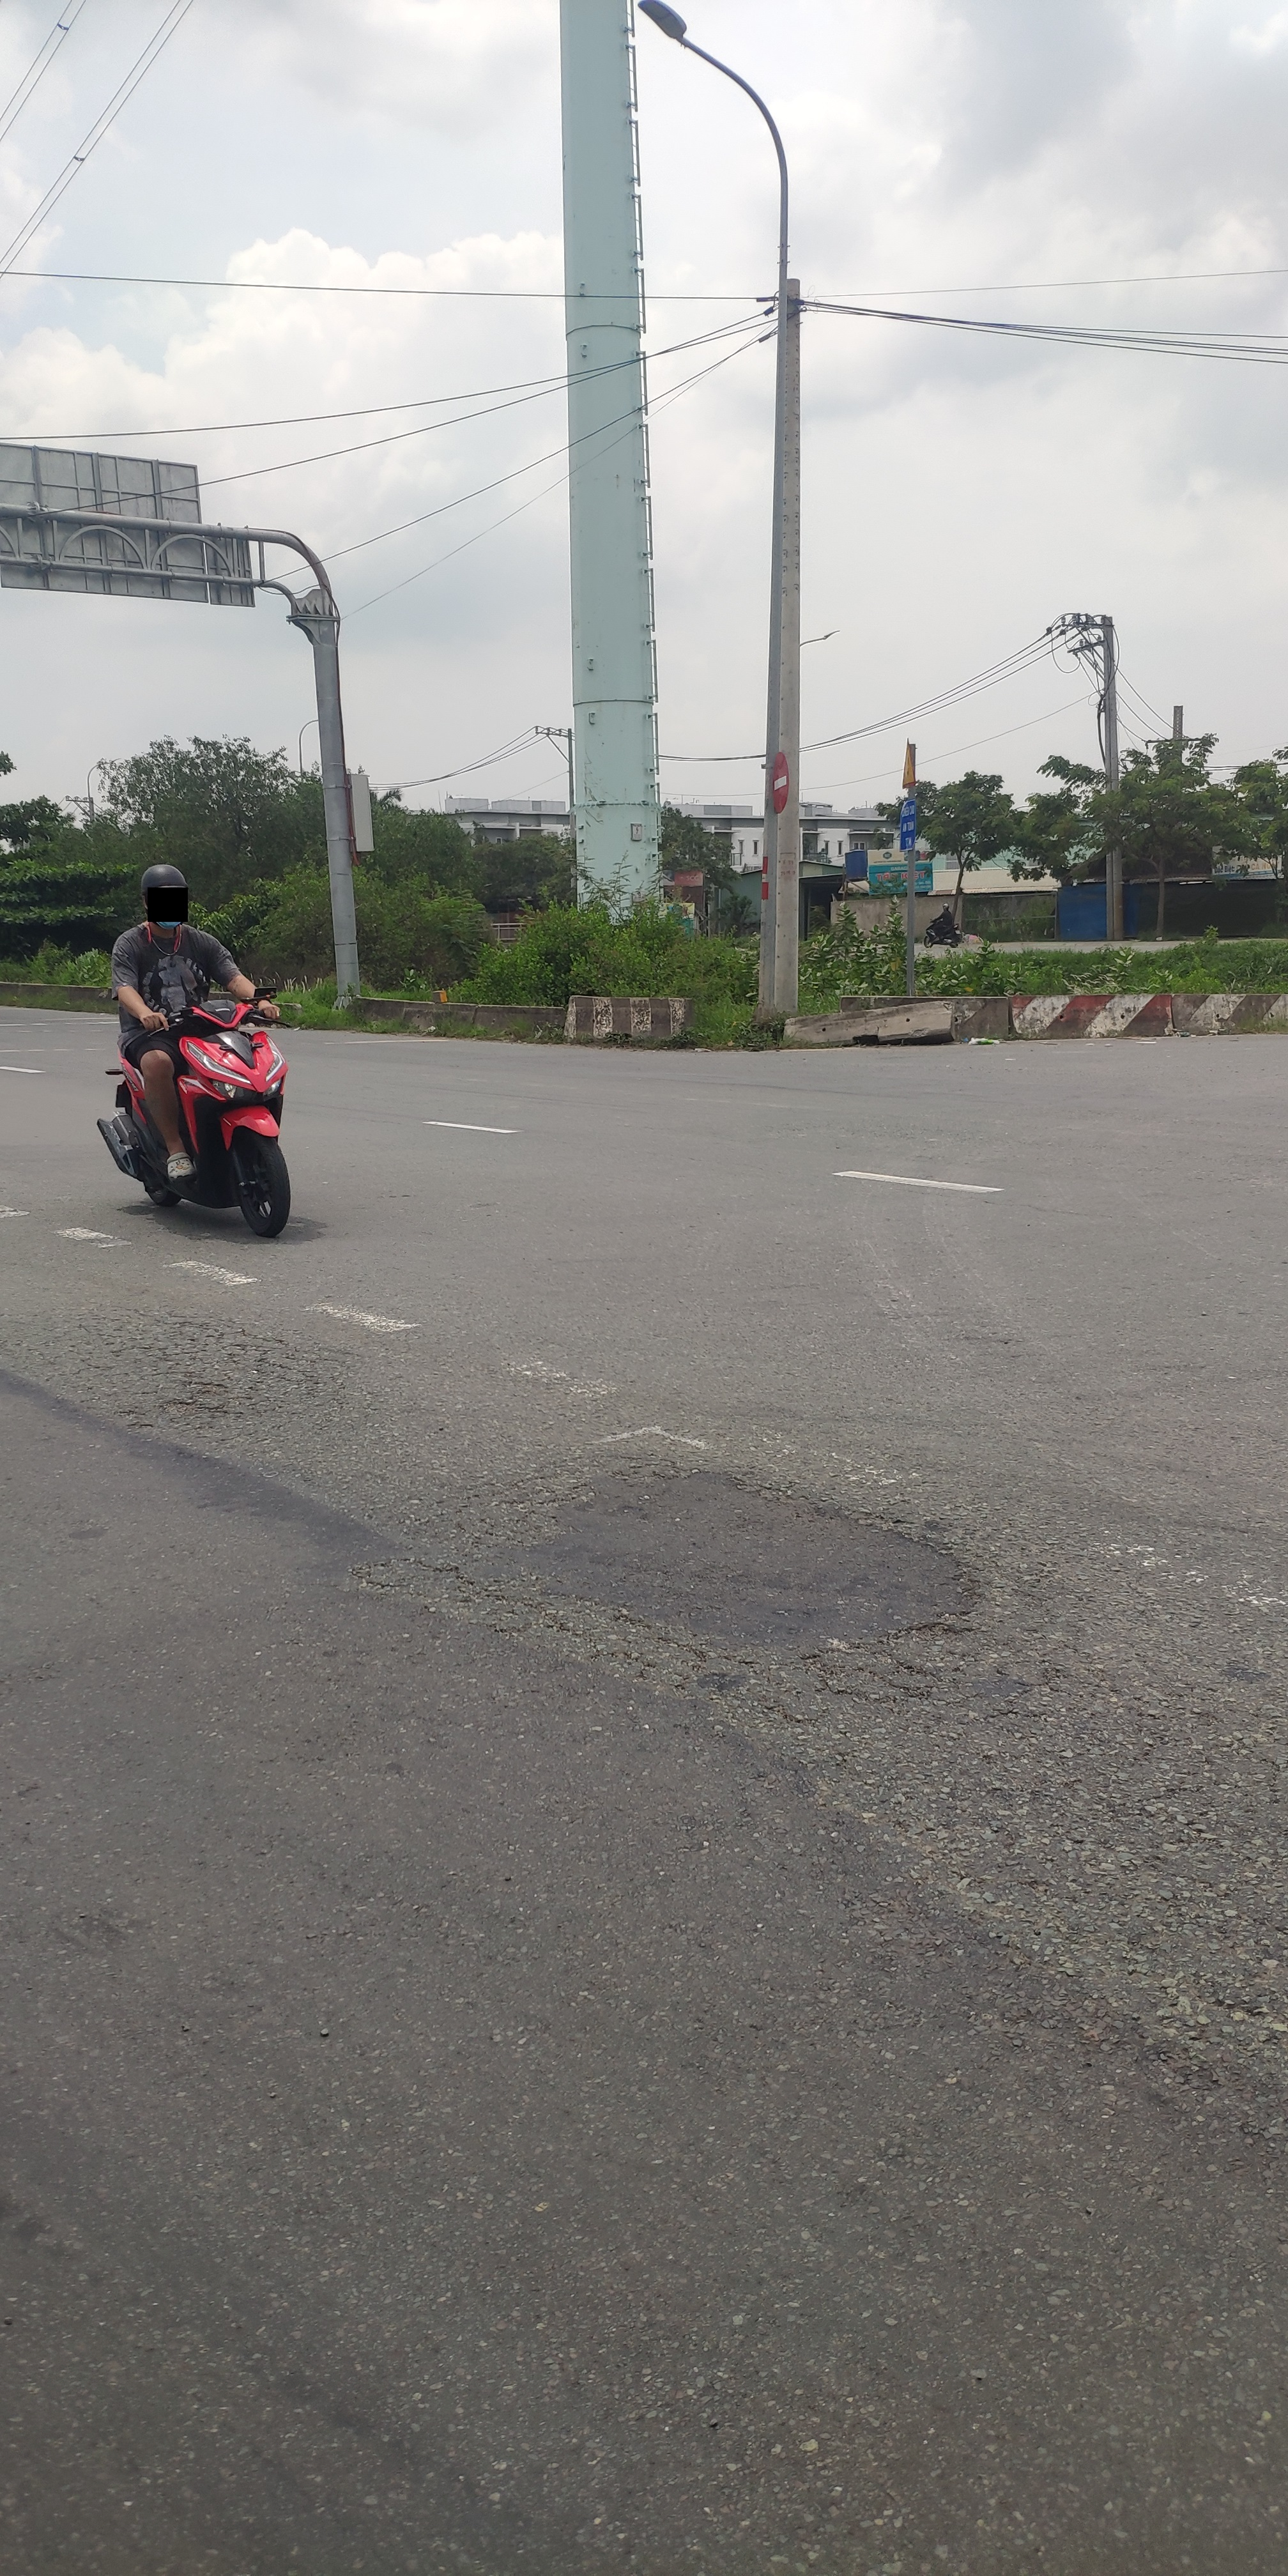hole: (517, 1452, 1001, 1667), (159, 1396, 210, 1419)
